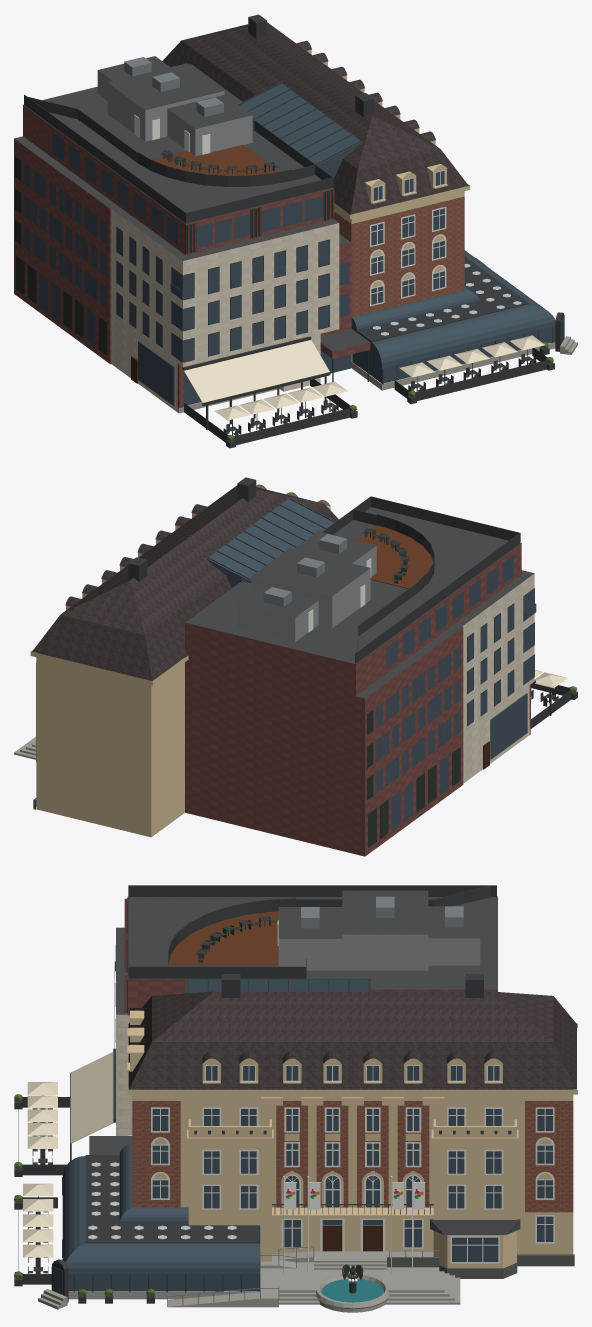
Rendered from foniks.glb.
3 views of the same model, one above another, from view 1: azimuth 30°, elevation 25°; view 2: azimuth 150°, elevation 25°; view 3: azimuth 270°, elevation 25° (orthographic). The views are drawn at different scales.
Parts seen in each view (by area): view 1: glass, dark, travertine, slate, copper, roof_felt, brick, canvas, bronze_dark, roof_light, phoenix, frame (+4 smaller); view 2: copper, phoenix, slate, roof_felt, glass, dark, travertine, roof_light, bronze_dark, wood, steel; view 3: slate, phoenix, glass, dark, roof_felt, brick, granite, frame, canvas, roof_light, wood, plinth (+7 smaller).
Boxes of the visible parts, bbox=[...] form: glass: bbox=[24, 82, 564, 405]; dark: bbox=[24, 14, 564, 448]; travertine: bbox=[111, 209, 339, 412]; slate: bbox=[162, 22, 468, 214]; copper: bbox=[14, 105, 370, 407]; roof_felt: bbox=[14, 56, 369, 351]; brick: bbox=[334, 196, 464, 317]; canvas: bbox=[183, 335, 544, 420]; bronze_dark: bbox=[15, 156, 334, 362]; roof_light: bbox=[97, 70, 252, 156]; phoenix: bbox=[306, 49, 470, 366]; frame: bbox=[134, 114, 446, 306]; copper: bbox=[185, 543, 530, 856]; phoenix: bbox=[30, 484, 330, 837]; slate: bbox=[32, 485, 338, 680]; roof_felt: bbox=[185, 507, 534, 698]; glass: bbox=[207, 498, 536, 830]; dark: bbox=[128, 477, 577, 728]; travertine: bbox=[462, 573, 534, 783]; roof_light: bbox=[237, 545, 376, 641]; bronze_dark: bbox=[367, 588, 534, 847]; wood: bbox=[357, 525, 433, 588]; steel: bbox=[263, 534, 347, 607]; slate: bbox=[128, 991, 576, 1089]; phoenix: bbox=[127, 1010, 577, 1268]; glass: bbox=[53, 945, 553, 1294]; dark: bbox=[14, 885, 520, 1303]; roof_felt: bbox=[89, 890, 497, 1154]; brick: bbox=[132, 1101, 573, 1212]; granite: bbox=[38, 1251, 460, 1312]; frame: bbox=[151, 920, 554, 1272]; canvas: bbox=[23, 1052, 113, 1257]; roof_light: bbox=[278, 934, 480, 970]; wood: bbox=[168, 911, 278, 964]; plinth: bbox=[387, 1254, 574, 1278].
Size of the model in its own units: 42.67 by 24.6 by 48.59.
27 materials, 5 textured.
